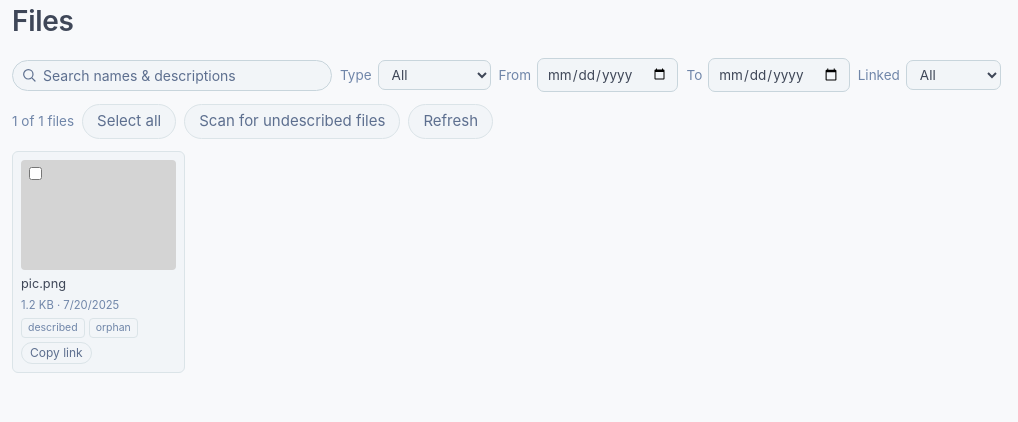
Test: Files › copies an orphan's markdown token
The width and height of the screenshot is (1018, 422).
Click the button "Copy link" at (56, 352), box 21,342 -> 92,364
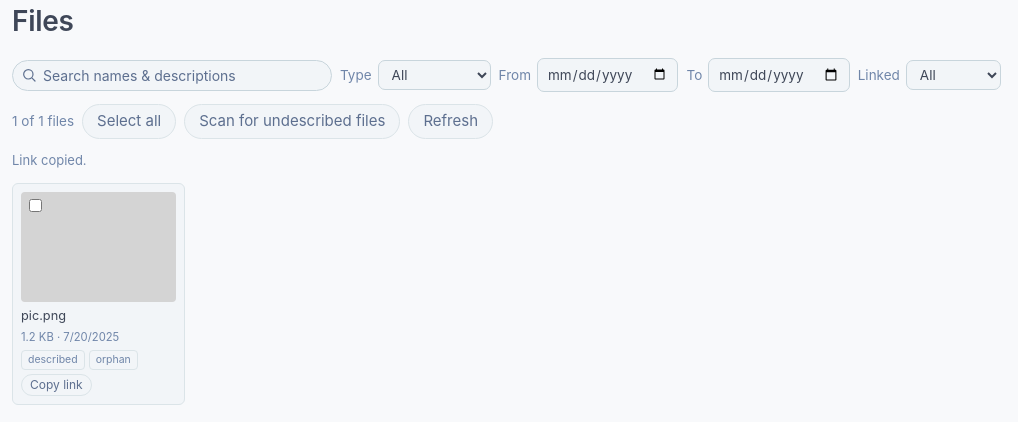
expect the text "Link copied." is shown: met, box 12,152 -> 87,168
